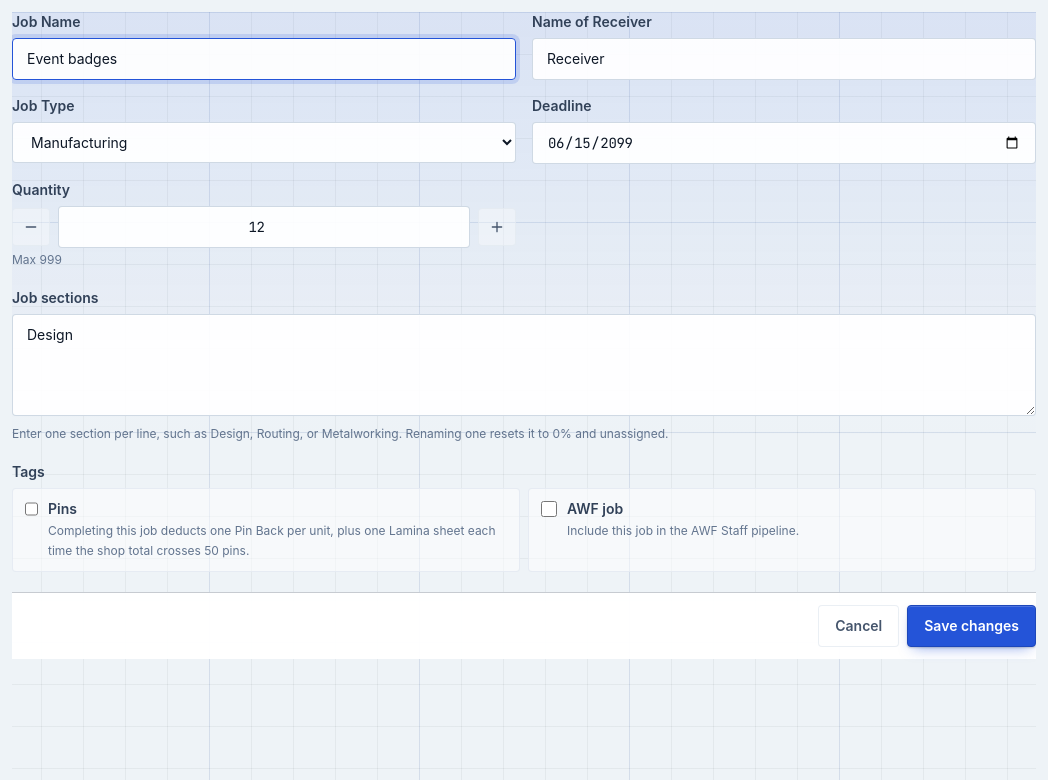
Test case: JobForm deadline-change reason field › blocks submission of a deadline change with no reason
This screenshot has width=1048, height=780.
In the date field labelled "Deadline": (784, 143) [532,122,1036,164], type "2099-07-20"
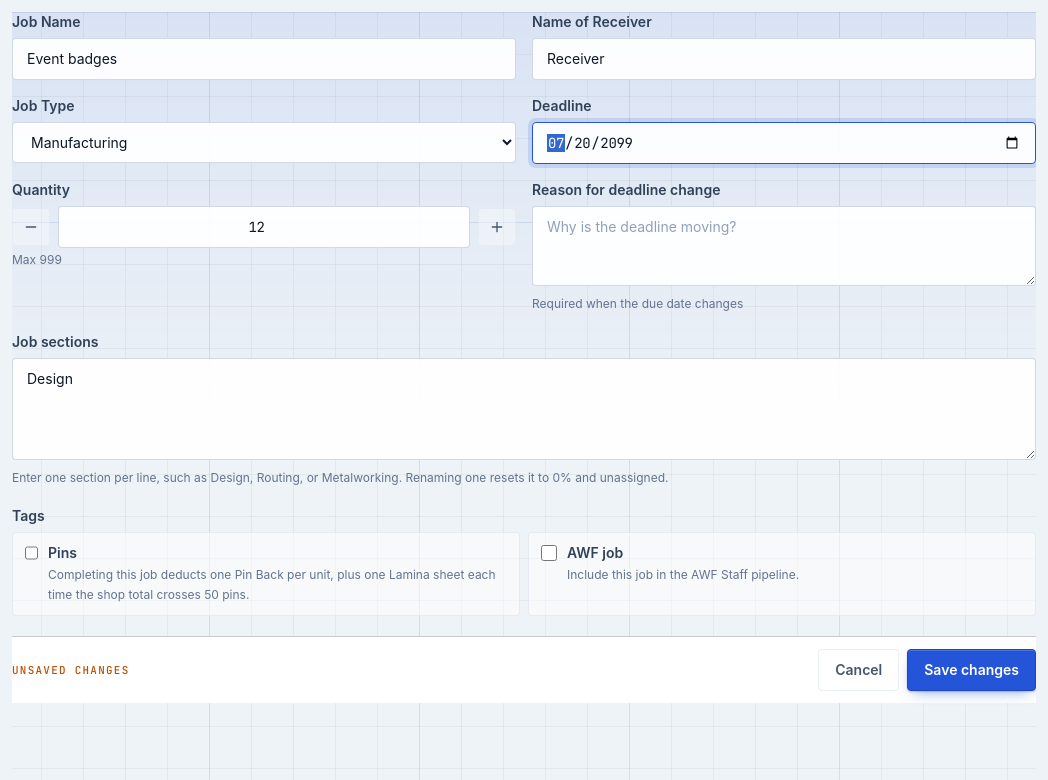
Click the button "Save changes": (972, 670) [907,649,1036,691]
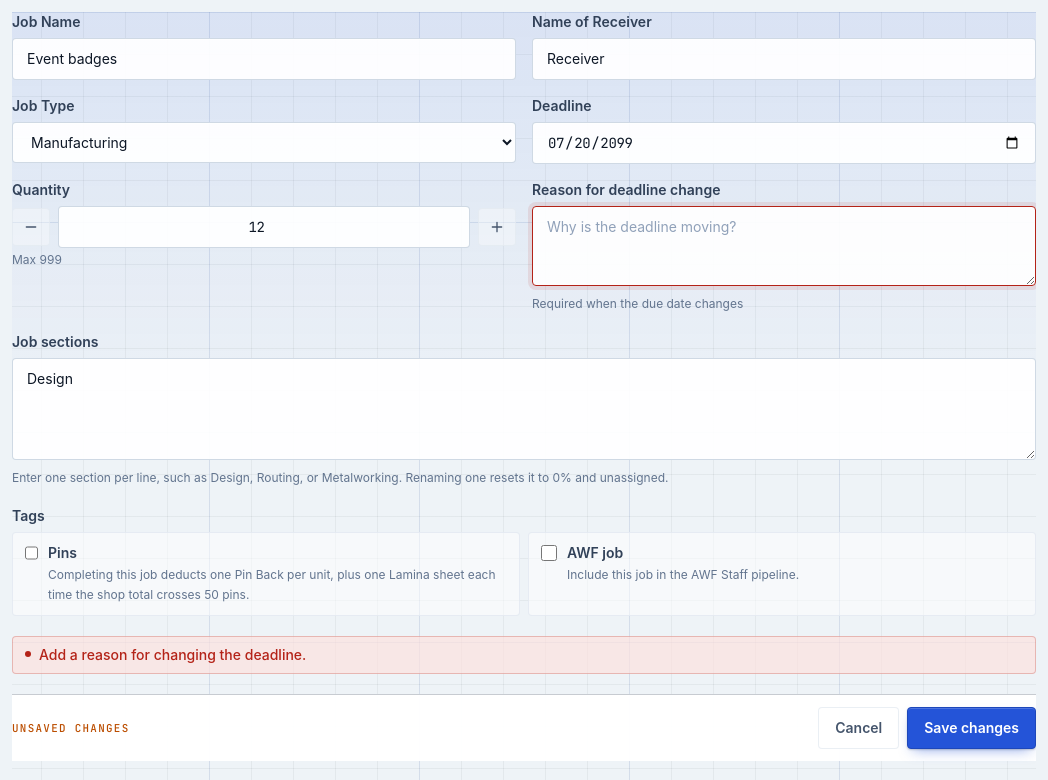
Expected: the message reads "Add a reason for changing the deadline.", [39,646,306,663]
